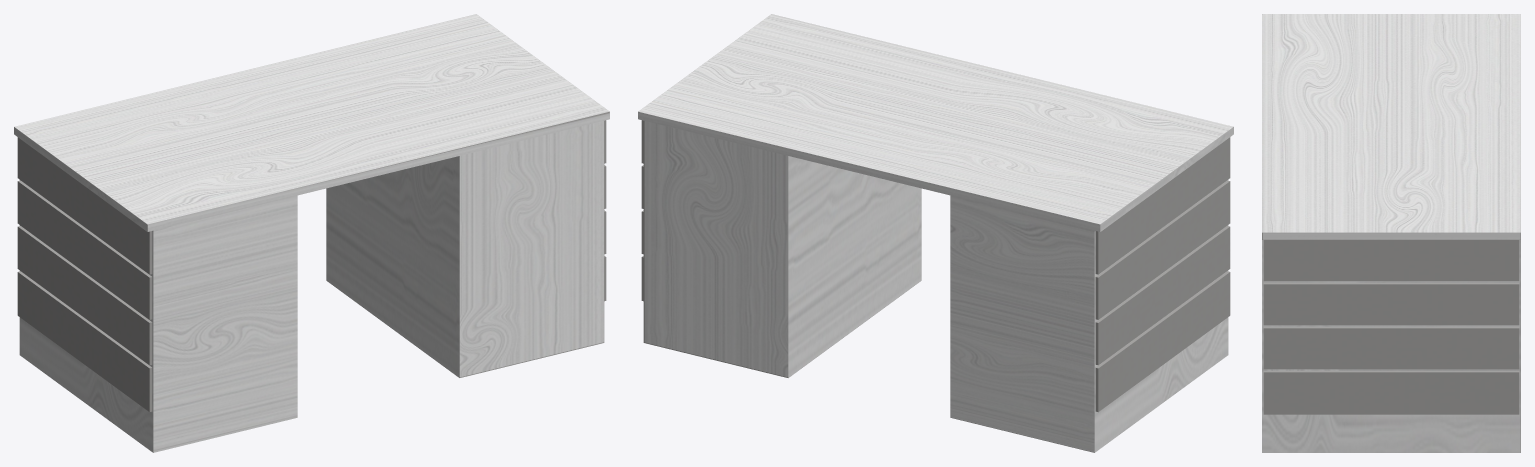
3 renders of one model, left to right at view 1: azimuth 30°, elevation 25°; view 2: azimuth 150°, elevation 25°; view 3: azimuth 270°, elevation 25°, orthographic. The views are drawn at different scales.
Visible parts, largest first — view 1: Stul_160; view 2: Stul_160; view 3: Stul_160.
Boxes of the visible parts, bbox=[...] form: Stul_160: bbox=[14, 14, 609, 452]; Stul_160: bbox=[638, 14, 1233, 452]; Stul_160: bbox=[1262, 14, 1520, 452].
Bounding box in the file's own units: 1.6 × 0.8 × 0.76.
